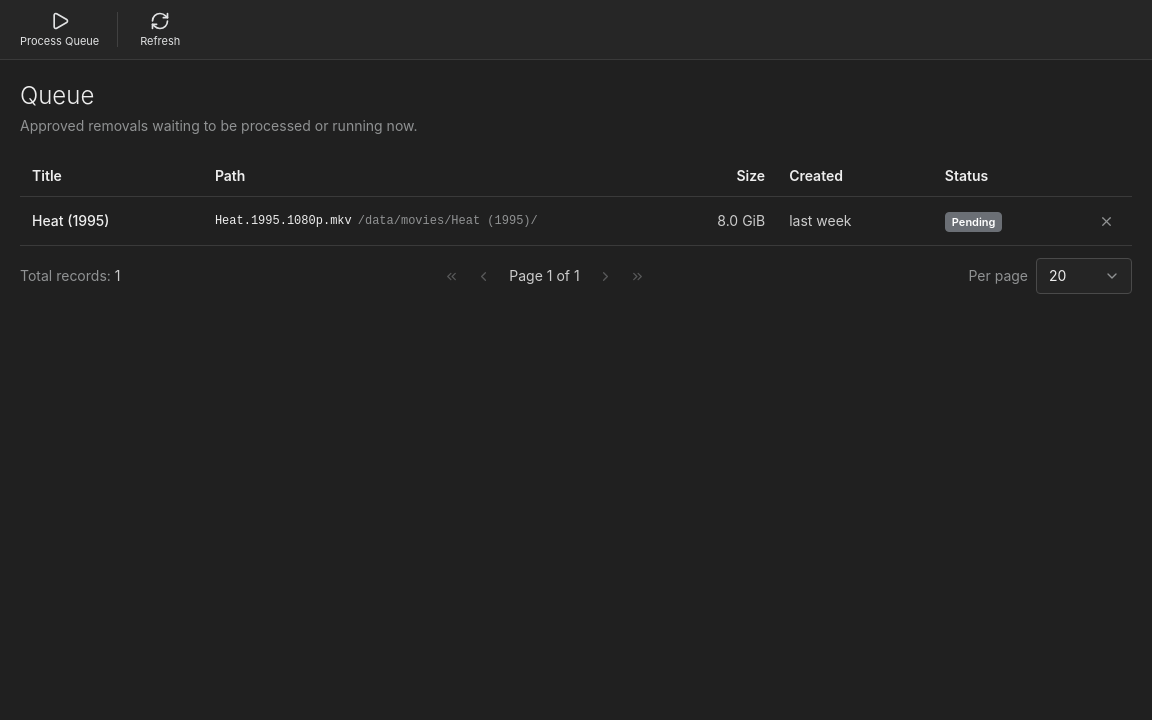
<QueuePage> › shows the server's 409 message and refreshes the queue when the action is already succeeded
Click the button named "Cancel removal of Heat (1995)": (1106, 221) [1092,207,1120,235]
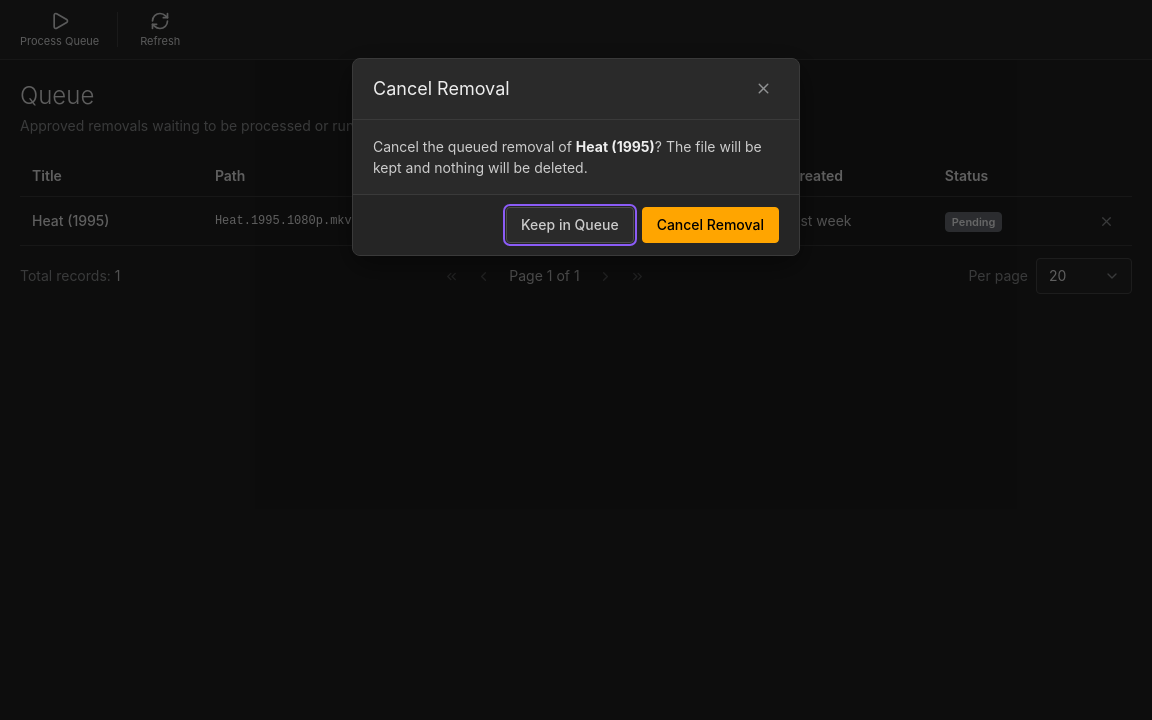
Click the button "Cancel Removal": (710, 225) [642,207,779,243]
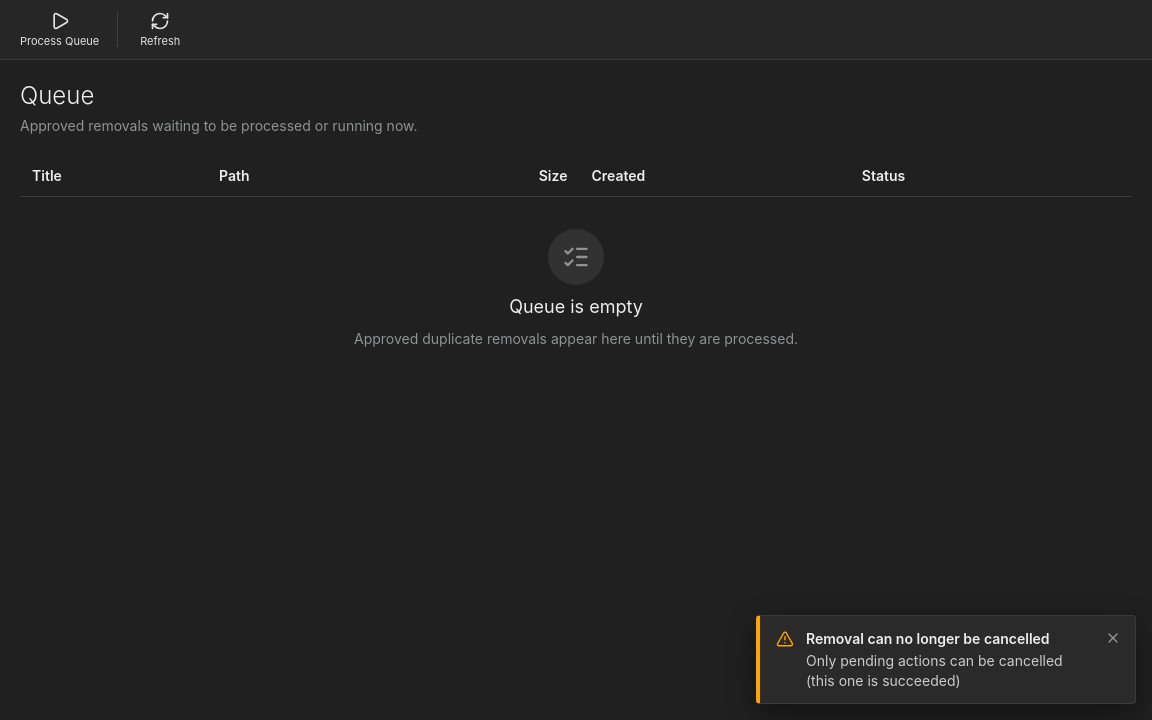
Expected: the text "Removal can no longer be cancelled" is shown, [806,628,1091,649]
Expected: the text "Only pending actions can be cancelled (this one is succeeded)" is shown, [806,651,1091,691]
Expected: the dialog is gone
